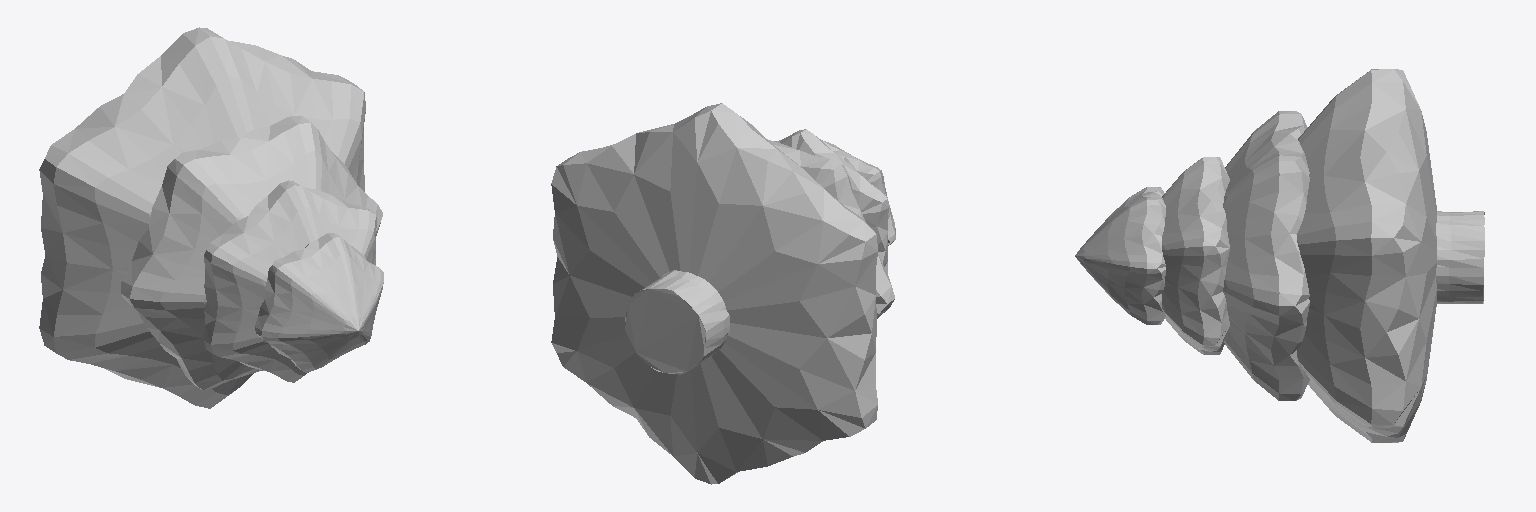
3 renders of one model, left to right at view 1: azimuth 30°, elevation 25°; view 2: azimuth 150°, elevation 25°; view 3: azimuth 270°, elevation 25°, orthographic.
Visible parts, largest first — view 1: Pine; view 2: Pine, Trunk; view 3: Pine, Trunk.
Boxes of the visible parts, x1,y1,x2,y2 form: Pine: [39, 27, 383, 408]; Pine: [551, 103, 895, 484]; Trunk: [625, 270, 729, 374]; Pine: [1075, 69, 1436, 442]; Trunk: [1436, 211, 1484, 303].
Bounding box in the file's own units: 2.13 × 2.41 × 2.4.